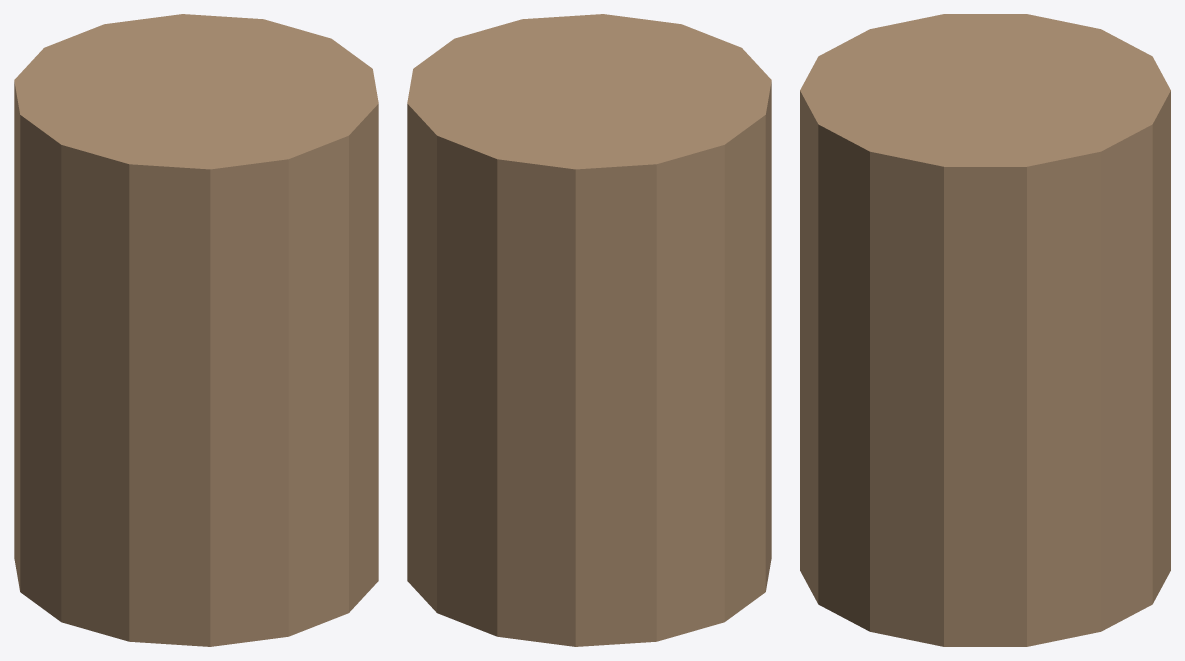
The model's file is barrel.glb.
3 views of the same model, side by side, from view 1: azimuth 30°, elevation 25°; view 2: azimuth 150°, elevation 25°; view 3: azimuth 270°, elevation 25° (orthographic).
Visible parts, largest first — view 1: barrel; view 2: barrel; view 3: barrel.
Boxes of the visible parts, x1,y1,x2,y2 form: barrel: (14, 14, 378, 646); barrel: (407, 14, 771, 646); barrel: (800, 14, 1170, 646).
Size of the model in its own units: 0.6826 by 1 by 0.7002.
